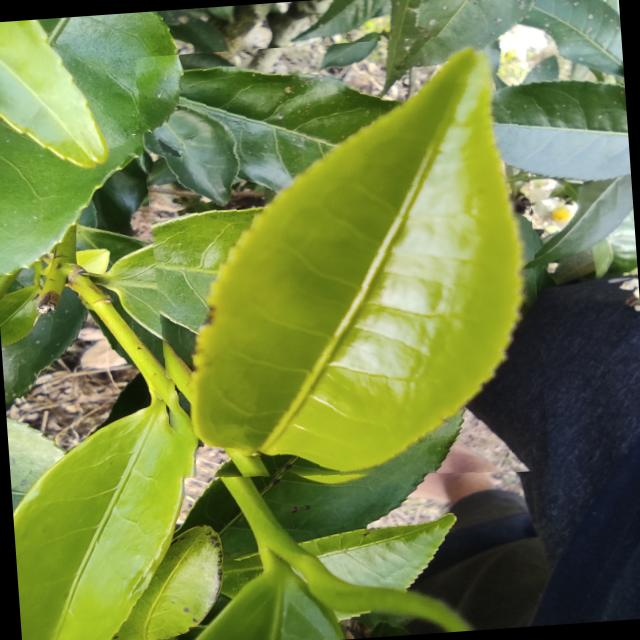Category B 2-4 days: (132, 31, 548, 498)
